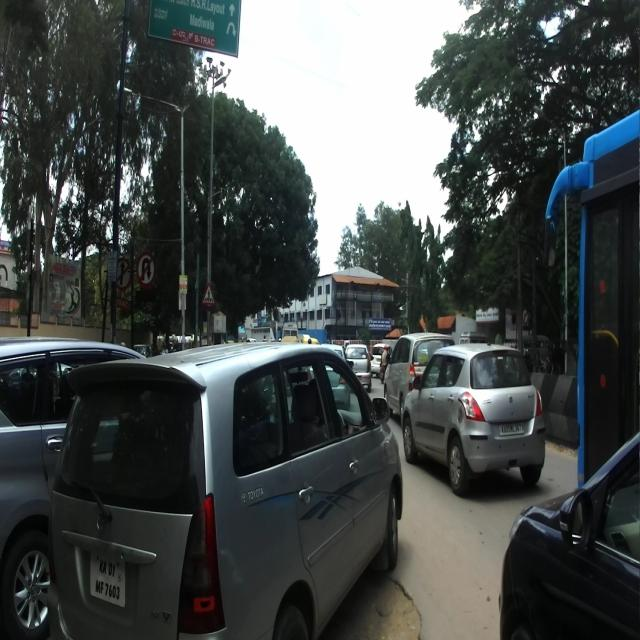car: (44, 341, 402, 639), (0, 336, 158, 638), (499, 428, 640, 640), (401, 342, 546, 497), (383, 330, 455, 426)
